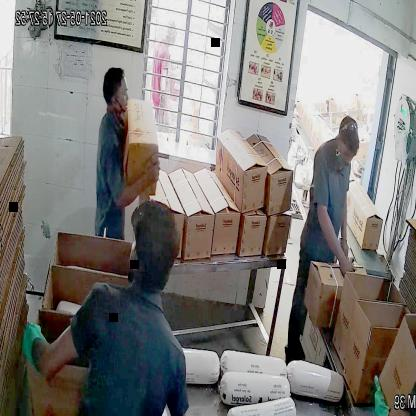no_goggles: (106, 84, 130, 102), (337, 145, 358, 164)
